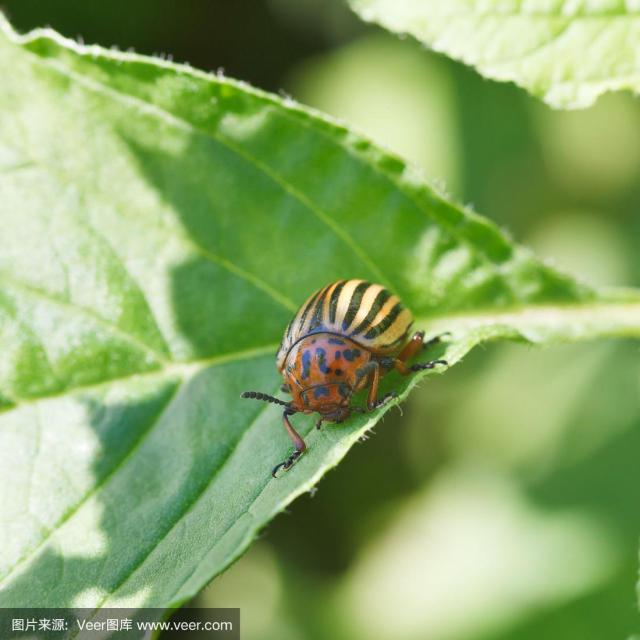ShuCaiHuaBanChong-Grown-: (261, 260, 418, 442)
